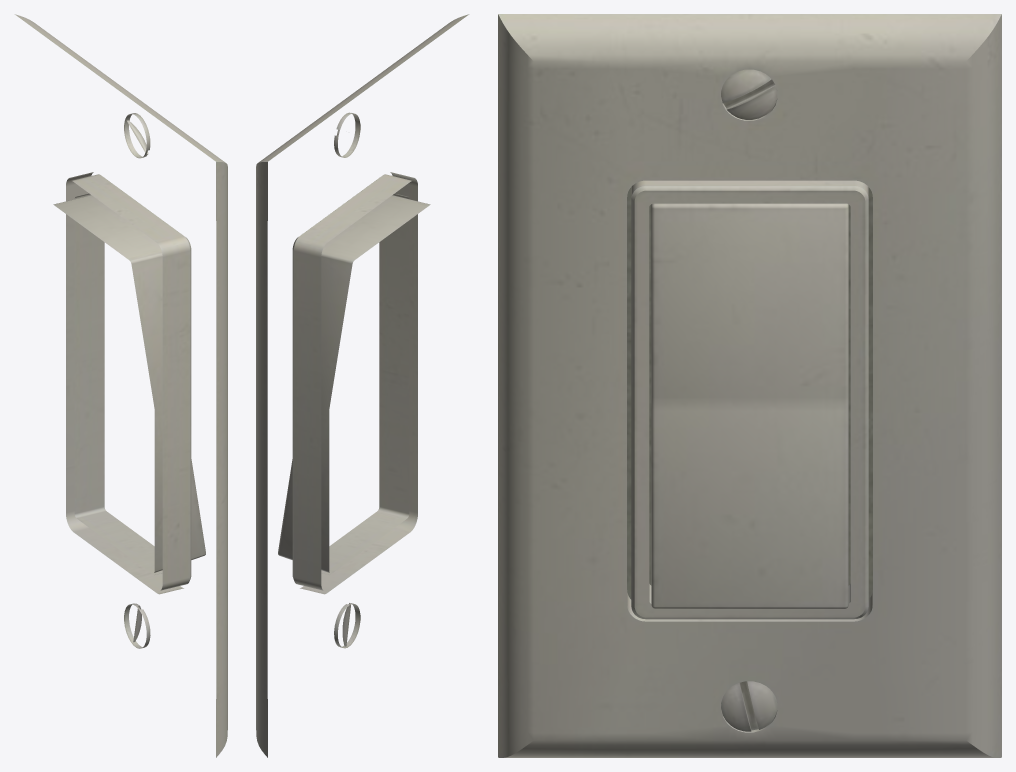
File: light-switch.glb
3 views of the same model, side by side, from view 1: azimuth 30°, elevation 25°; view 2: azimuth 150°, elevation 25°; view 3: azimuth 270°, elevation 25° (orthographic). The views are drawn at different scales.
Visible parts, largest first — view 1: CoverPlate.001_lightswitch_0; view 2: CoverPlate.001_lightswitch_0; view 3: CoverPlate.001_lightswitch_0.
Part boxes in pixels (<box>): CoverPlate.001_lightswitch_0: <box>14,14,227,757</box>; CoverPlate.001_lightswitch_0: <box>256,14,469,757</box>; CoverPlate.001_lightswitch_0: <box>498,14,1001,757</box>.
Size of the model in its own units: 0.0153 by 0.114 by 0.07.
1 material, 1 textured.
